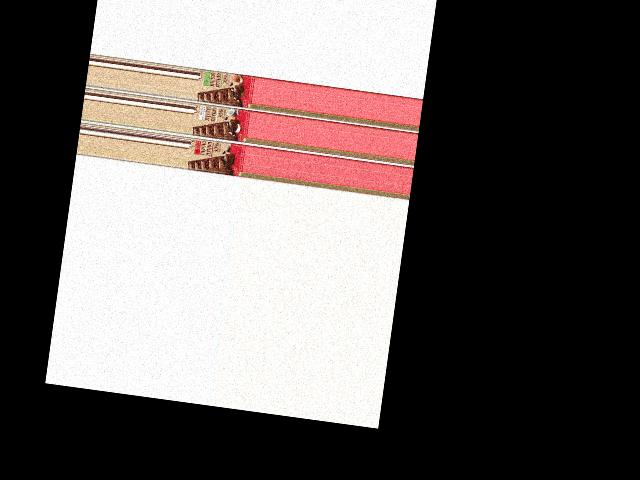chocolate: (196, 67, 256, 107)
